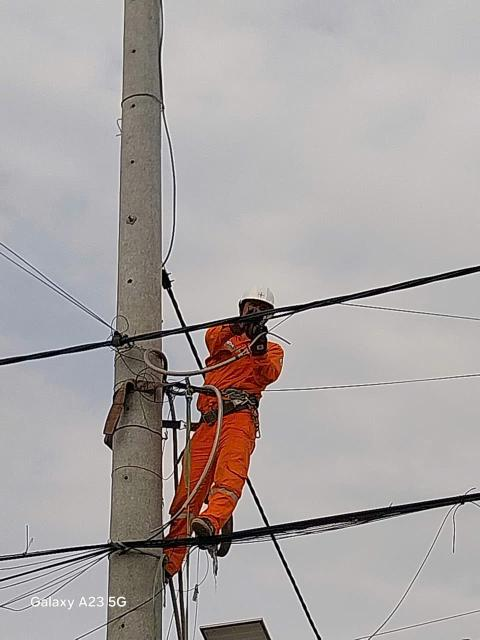gloves: (237, 312, 273, 360)
harness: (179, 382, 278, 430)
helmet: (235, 279, 279, 328)
shoes: (184, 506, 226, 555)
